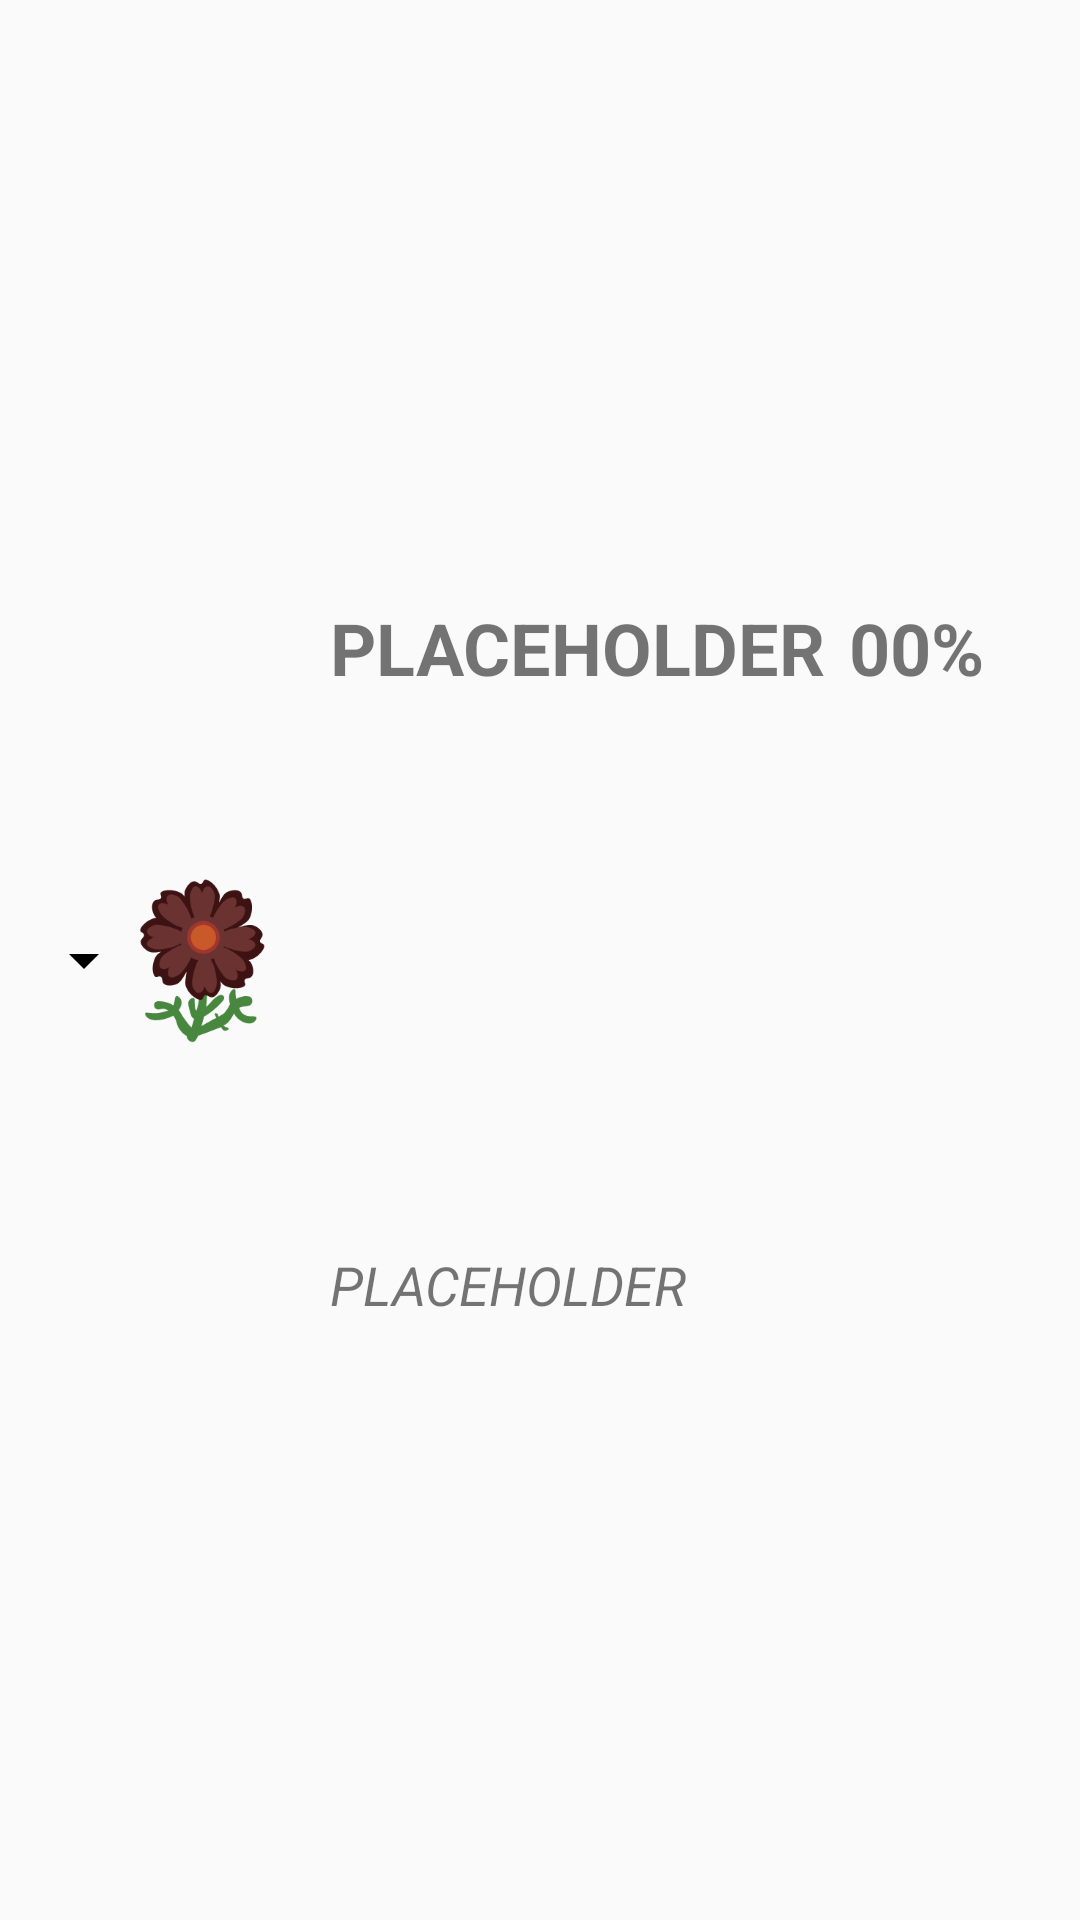

Locate icon controls on the screen. Image size 1080x1920, boxes as bbox(x1, y1, x2, y2).
arrow drop down: bbox(69, 954, 99, 969)
cosmo: bbox(140, 879, 265, 1042)
